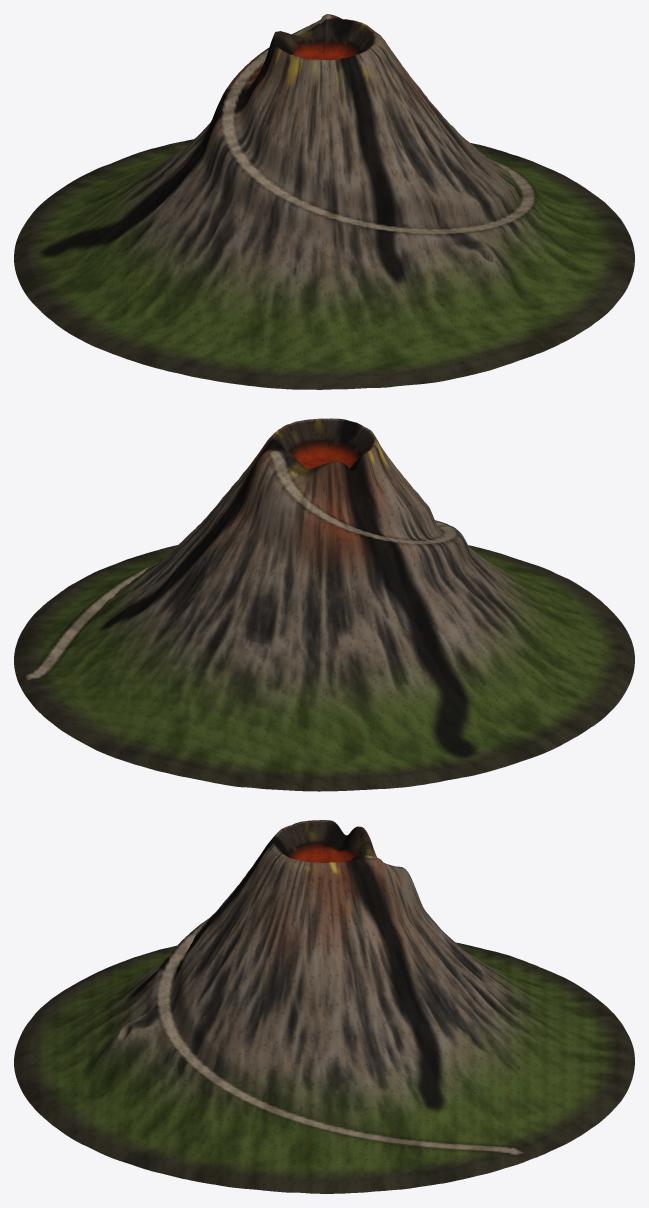
Rendered from volcano_mountain.glb.
The picture shows the model from 3 angles, top to bottom: view 1: azimuth 30°, elevation 25°; view 2: azimuth 150°, elevation 25°; view 3: azimuth 270°, elevation 25°; orthographic projection.
Size of the model in its own units: 240 by 94.84 by 240.
1 material, 1 textured.
